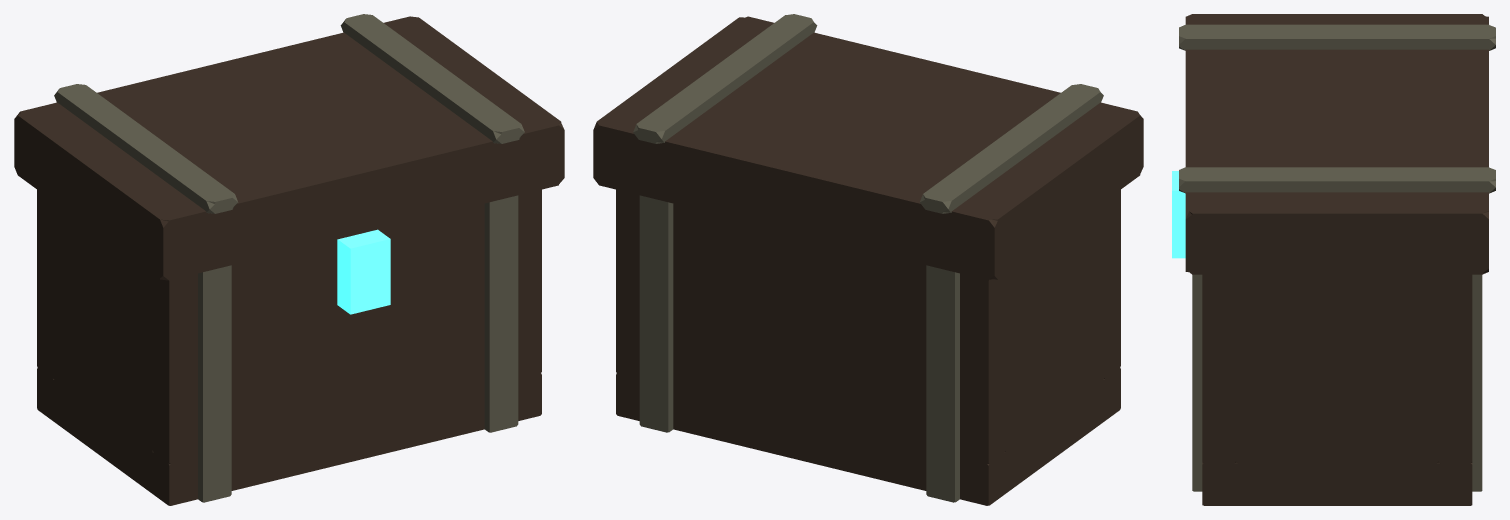
Rendered from treasure_chest.glb.
The picture shows the model from 3 angles, left to right: view 1: azimuth 30°, elevation 25°; view 2: azimuth 150°, elevation 25°; view 3: azimuth 270°, elevation 25°; orthographic projection.
Visible parts, largest first — view 1: treasure_chest_Static, Lid, Latch; view 2: treasure_chest_Static, Lid; view 3: Lid, treasure_chest_Static, Latch.
Boxes of the visible parts, x1=… form: treasure_chest_Static: x1=37, y1=189, x2=541, y2=505; Lid: x1=14, y1=14, x2=564, y2=280; Latch: x1=337, y1=229, x2=390, y2=314; treasure_chest_Static: x1=616, y1=189, x2=1120, y2=505; Lid: x1=593, y1=14, x2=1143, y2=280; Lid: x1=1179, y1=14, x2=1495, y2=274; treasure_chest_Static: x1=1192, y1=274, x2=1482, y2=505; Latch: x1=1172, y1=171, x2=1185, y2=258.
Size of the model in its own units: 1.4 by 1.01 by 0.96.
